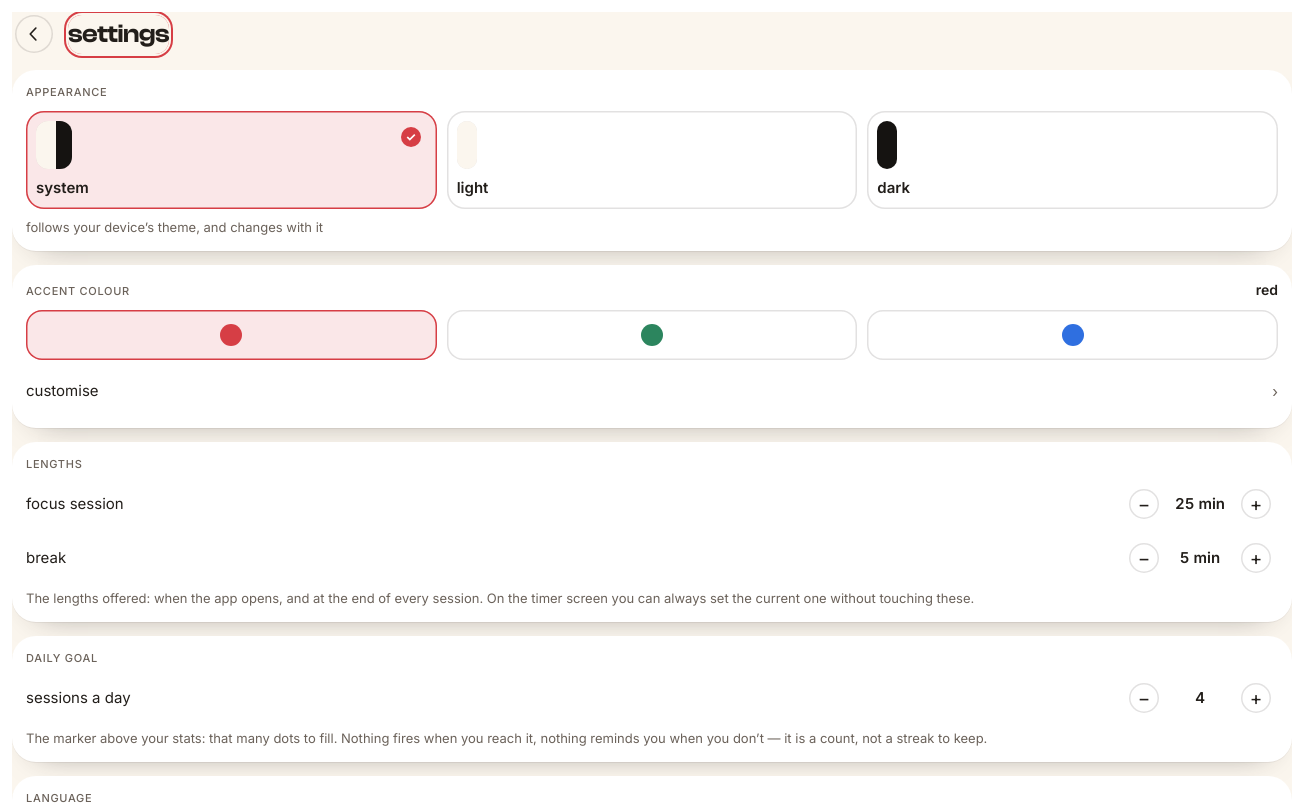
the lengths › states both, and moves them a minute at a time
Expected: the text "25 min" is shown, [1175,494,1225,513]
Expected: the text "5 min" is shown, [1180,548,1220,567]
Click the button named "increase: focus session". click: (1256, 504)
box: [1234,482,1278,526]
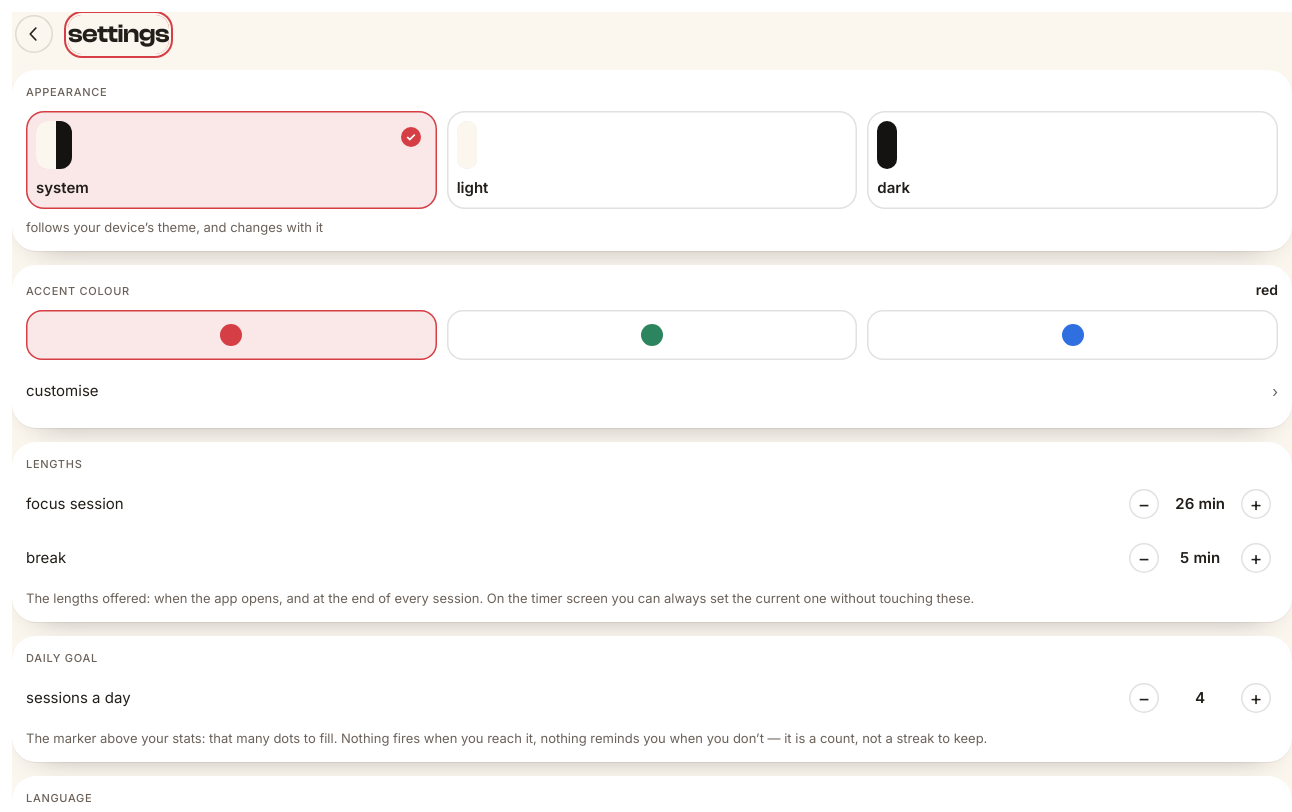
Click the button named "decrease: break". click: (1144, 558)
box: [1122,536,1166,580]
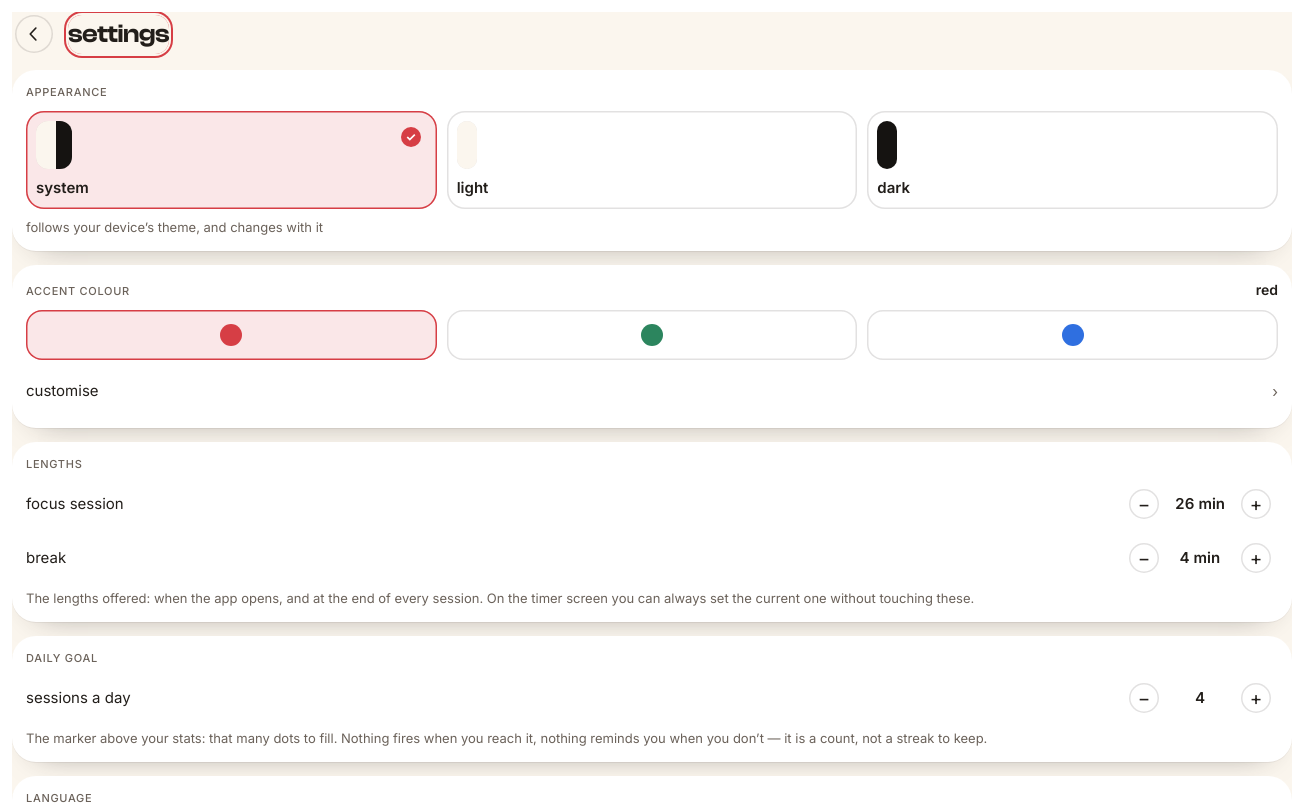
Expected: the text "26 min" is shown, [1175,494,1225,513]
Expected: the text "4 min" is shown, [1180,548,1220,567]
